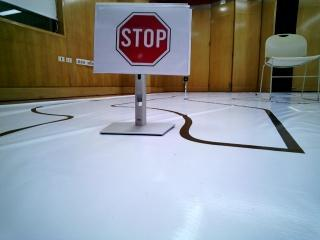stop: (96, 5, 184, 70)
